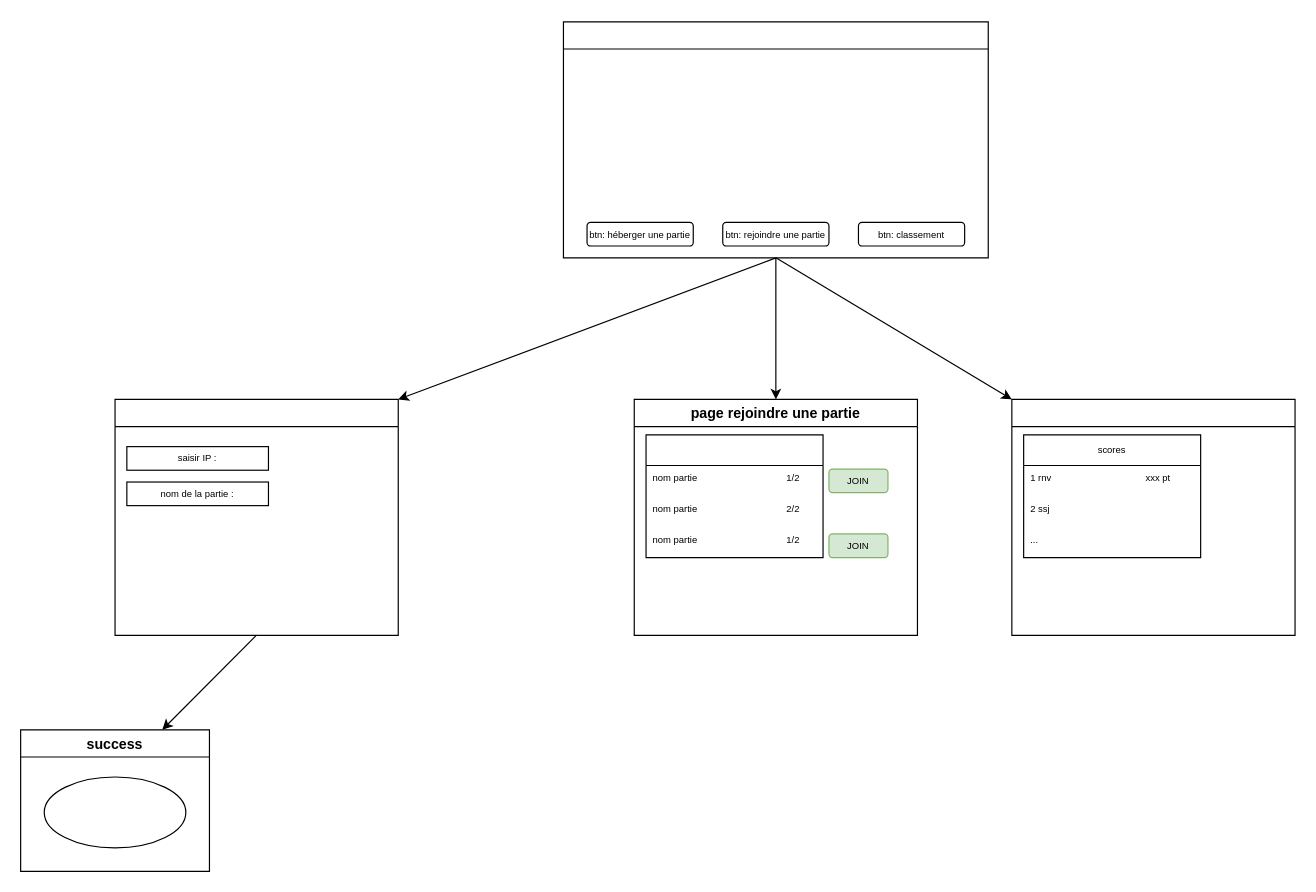
Some shapes in this 1316 by 892 pixel diagram are drawn without their labels. Each missing label, with the box of its shape:
page classement: (1011, 398, 1295, 635)
page hébergement de la partie: (114, 398, 398, 635)
parties: (645, 434, 823, 558)
un joueur arrive sur le jeu: (562, 21, 988, 258)
waiting: (43, 776, 186, 848)
